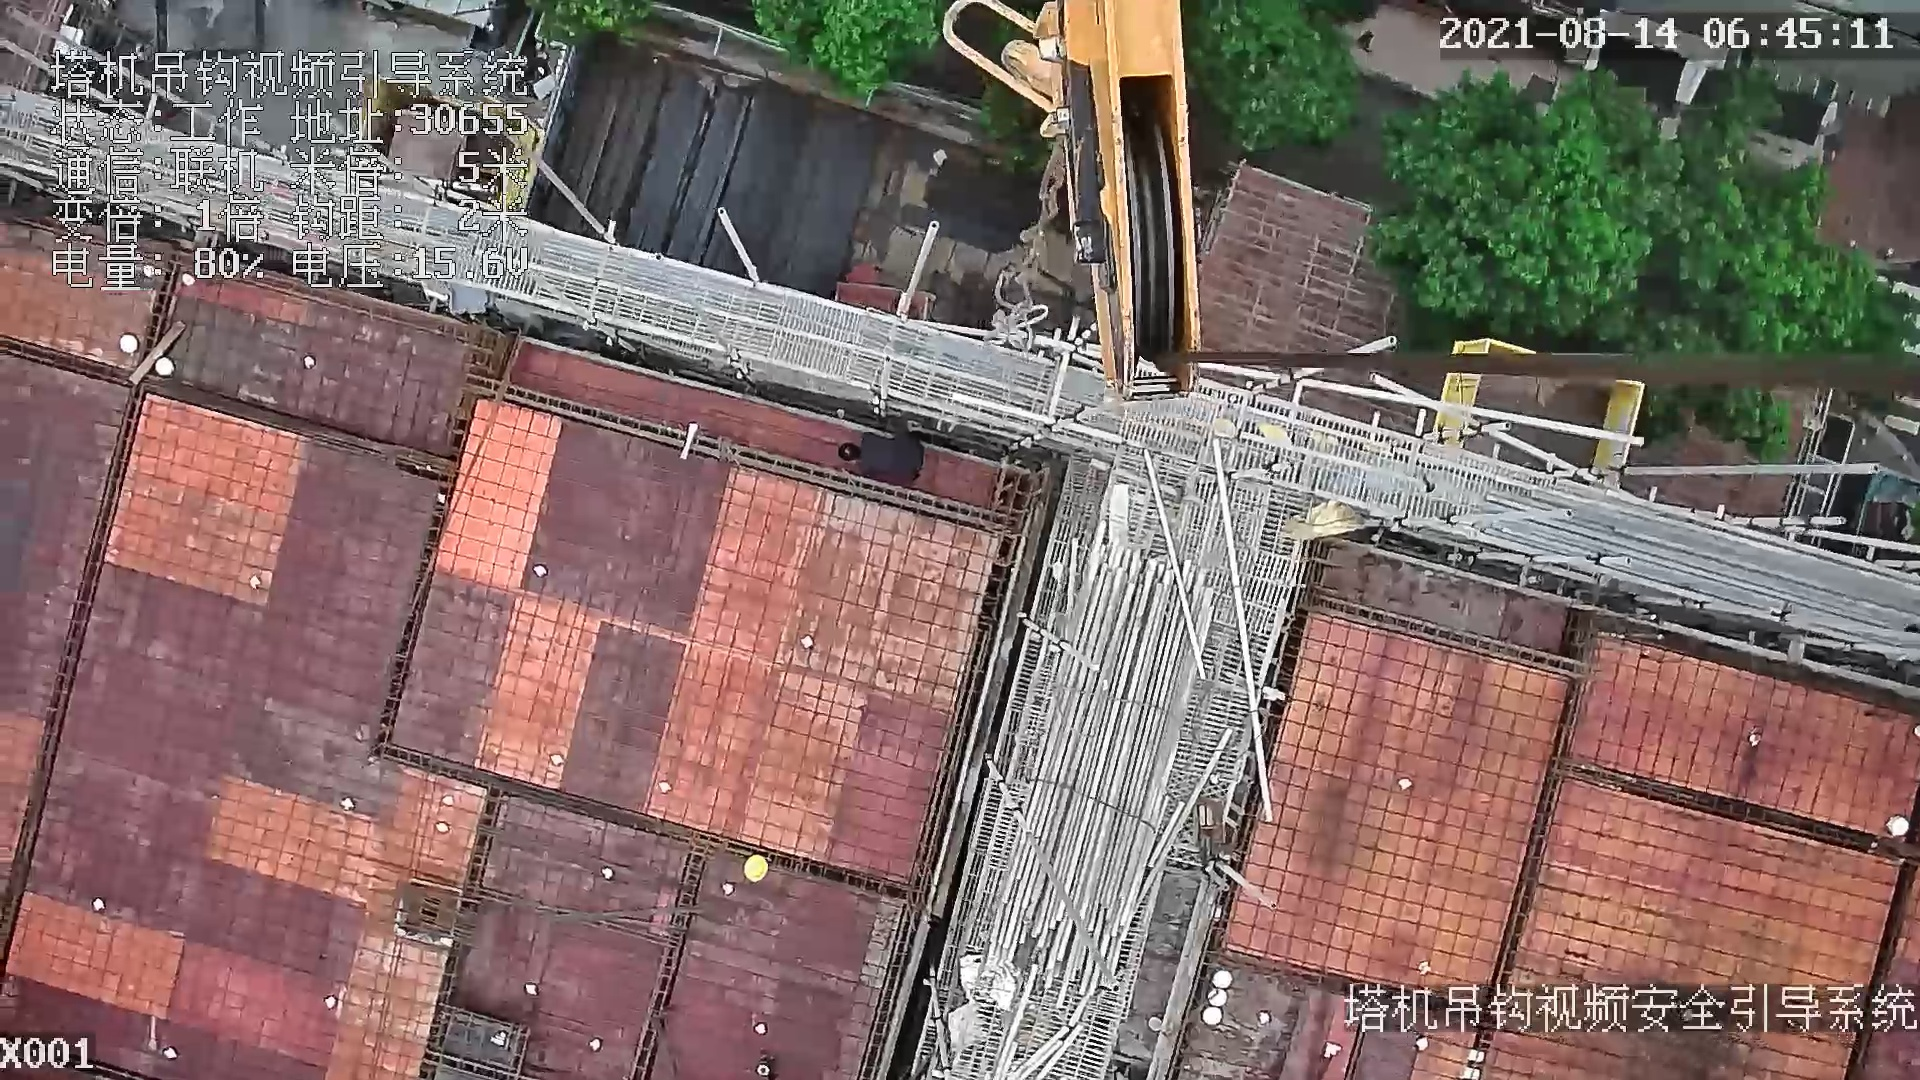helmet: (744, 852, 769, 885)
hook: (927, 5, 1206, 405)
person: (840, 419, 926, 482)
